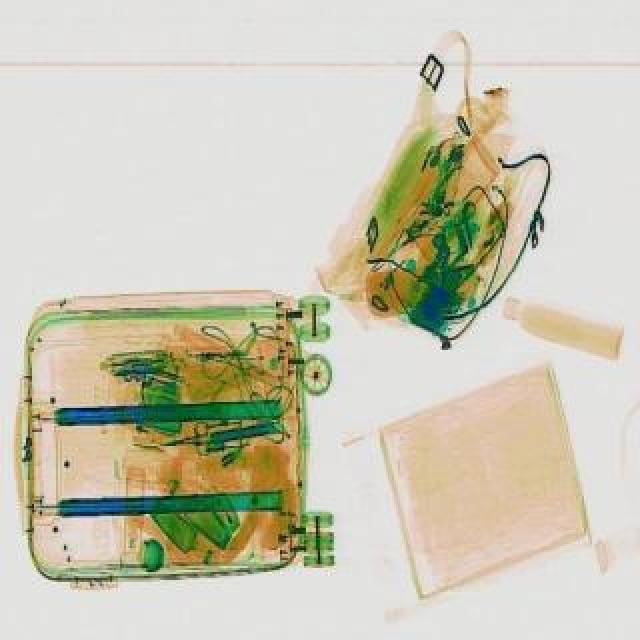pliers: (158, 418, 218, 458)
